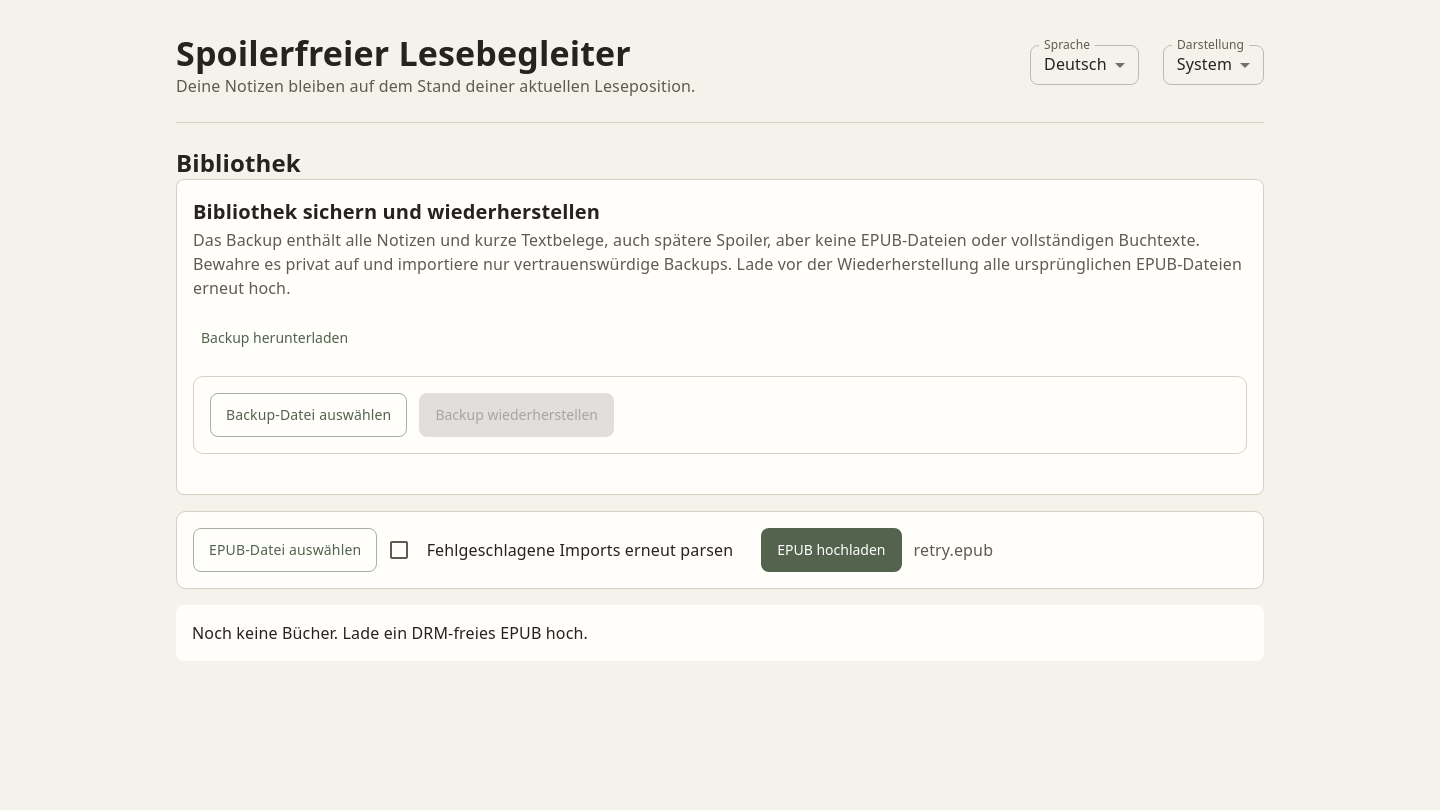
Scenario: App › keeps an upload retryable after a server error
Earlier steps of the test are not shown.
Expected: the text "Noch keine Bücher. Lade ein DRM-freies EPUB hoch." is shown, 176,605 -> 1264,661
Step 1. Click the button "EPUB hochladen" → x=831, y=550, box 761,528 -> 902,572
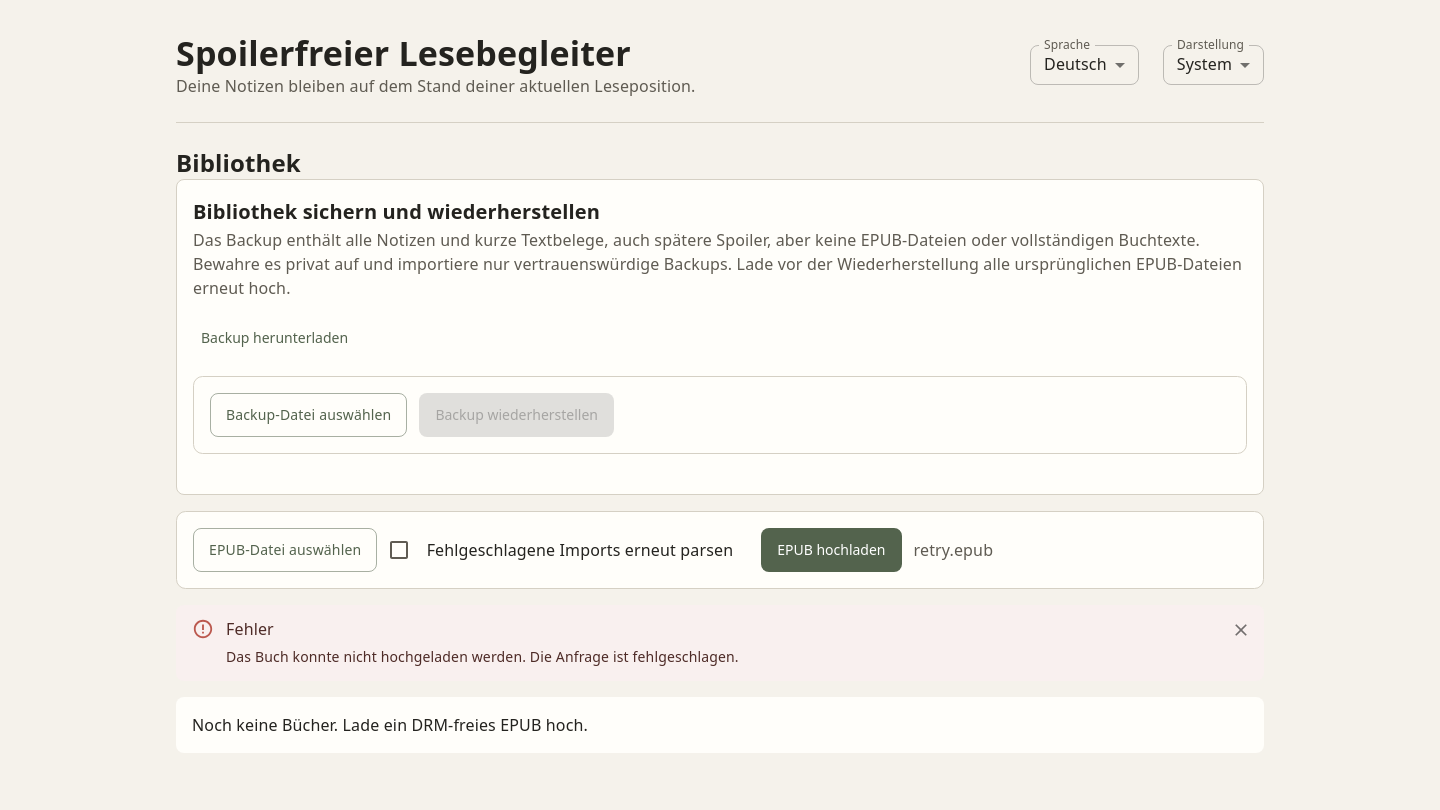
Expected: the button labelled "EPUB-Datei auswählen" is enabled, 193,528 -> 377,572
Now the message shows "Das Buch konnte nicht hochgeladen werden.", box 226,647 -> 739,666
Step 2. Click the button "EPUB hochladen" → x=831, y=550, box 761,528 -> 902,572
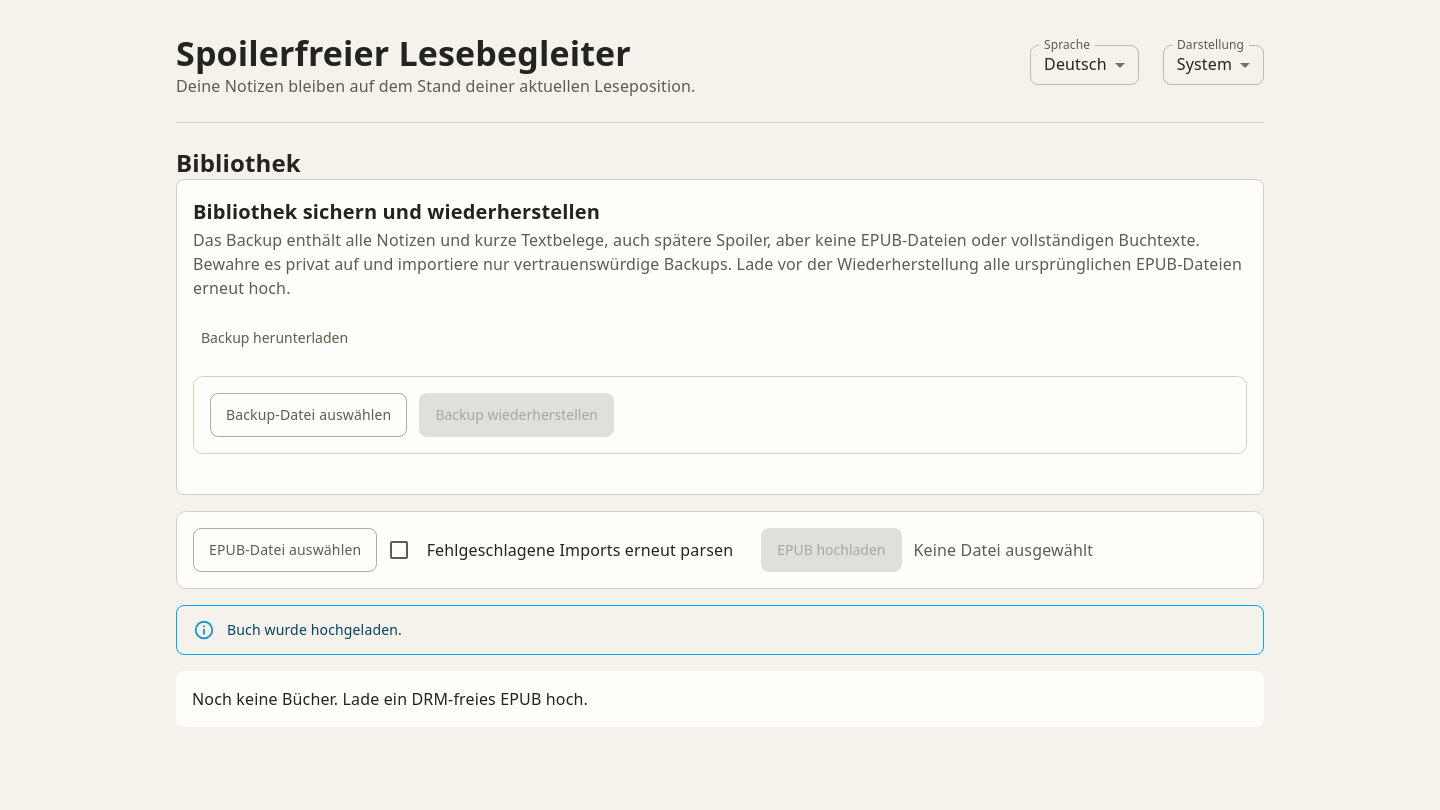
Now the message reads "Buch wurde hochgeladen.", box 227,620 -> 402,639
